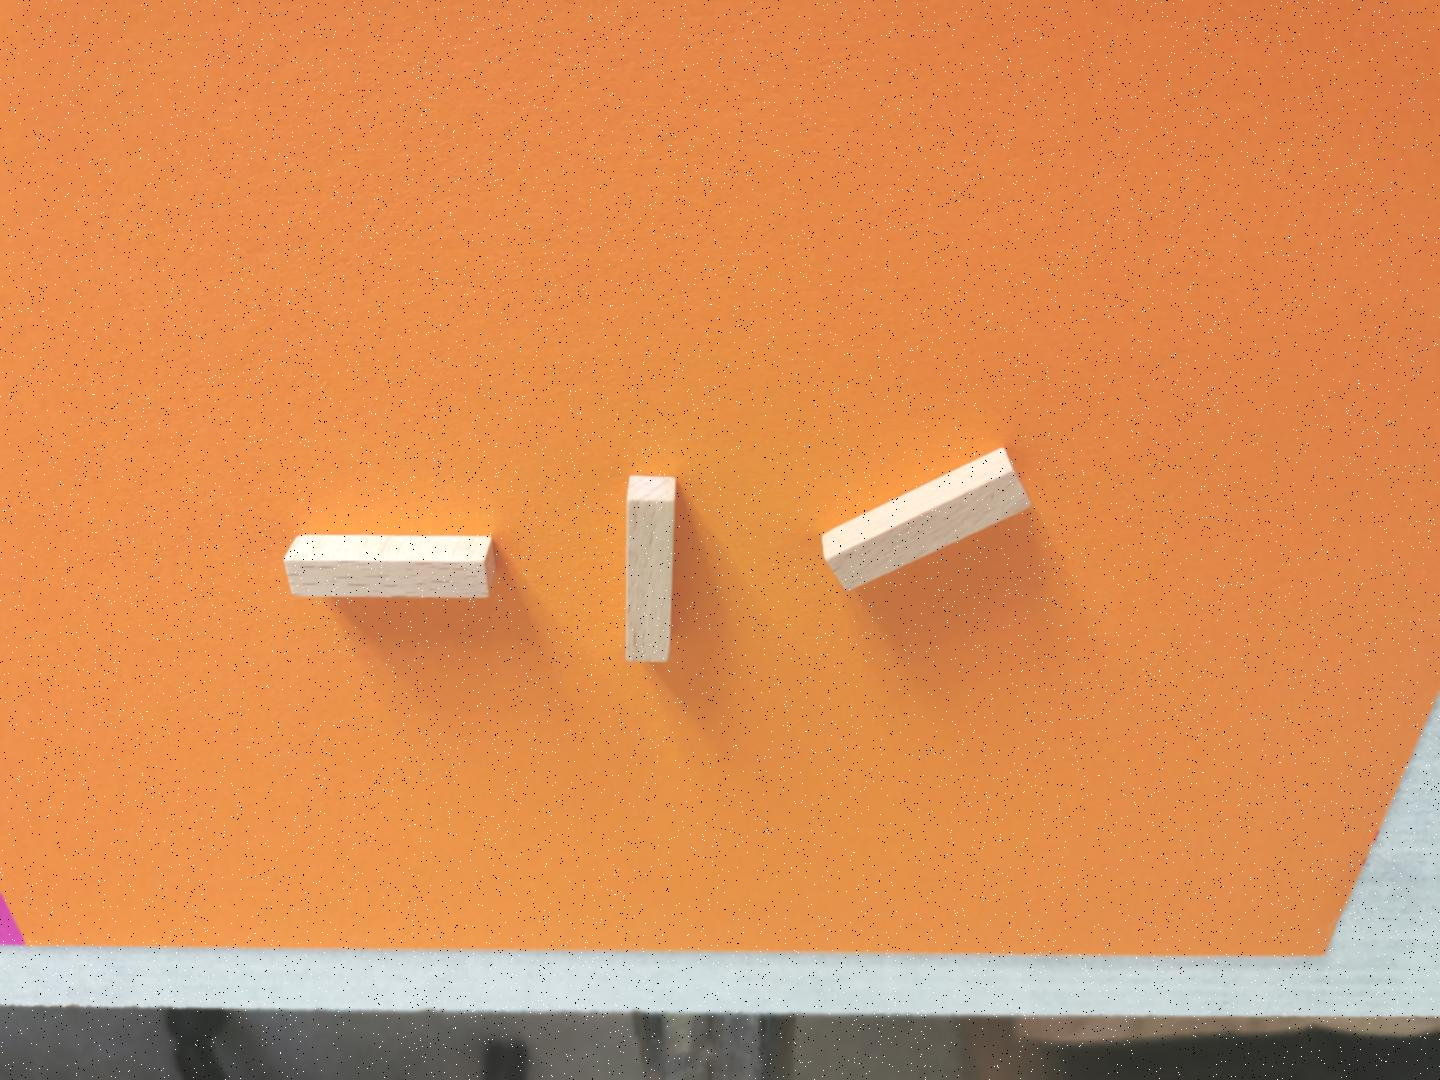jenga: (821, 447, 1030, 591), (285, 534, 495, 597), (625, 475, 675, 661)
